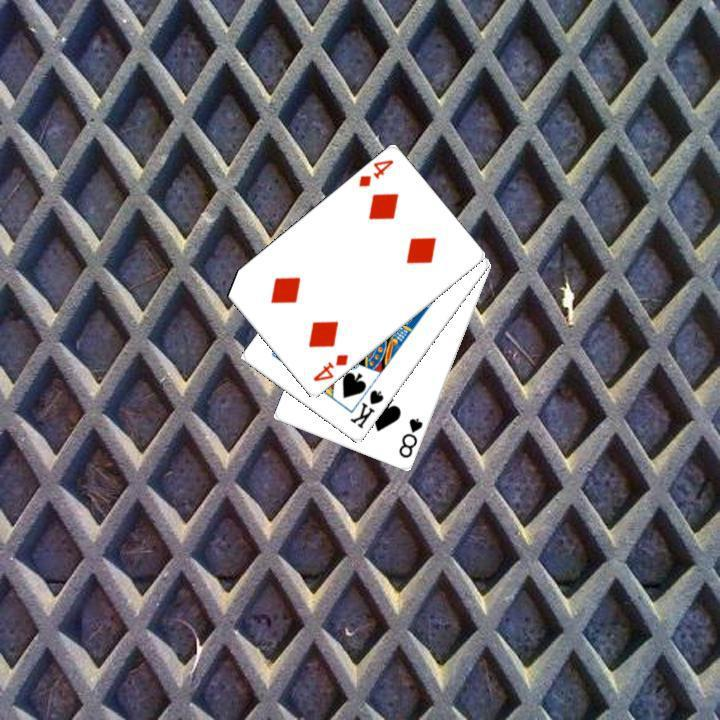4: (308, 350, 350, 384), (354, 155, 396, 189)
8: (394, 413, 425, 461)
K: (346, 386, 386, 431)
